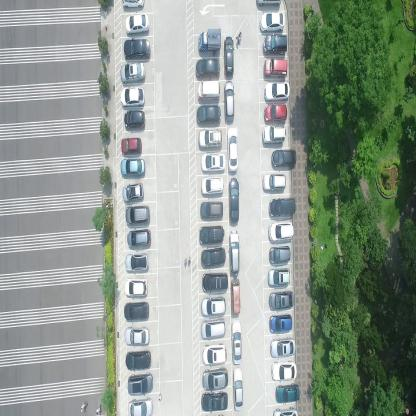car: (202, 366, 229, 392), (127, 371, 154, 396), (270, 336, 297, 360), (228, 228, 241, 277), (200, 295, 226, 319), (202, 343, 228, 367), (198, 27, 221, 54), (270, 360, 298, 382), (123, 37, 151, 59), (200, 392, 229, 413), (263, 33, 288, 57), (195, 58, 222, 80), (195, 104, 222, 126), (226, 125, 238, 174), (228, 176, 240, 224), (258, 10, 284, 32), (200, 246, 226, 268), (124, 324, 150, 346), (119, 85, 145, 107), (120, 62, 146, 84), (263, 81, 290, 102), (200, 320, 227, 341), (125, 349, 152, 370), (119, 157, 146, 178), (231, 319, 243, 366), (232, 368, 244, 414), (125, 13, 149, 36), (269, 289, 294, 311), (198, 128, 223, 150), (272, 148, 298, 169), (200, 152, 226, 173), (199, 176, 225, 197), (202, 271, 228, 292), (124, 301, 150, 322), (124, 252, 150, 273), (269, 198, 296, 218), (264, 58, 288, 80), (197, 80, 221, 102), (126, 204, 150, 226), (123, 277, 148, 298), (275, 384, 301, 404), (200, 225, 226, 245), (262, 124, 286, 145), (262, 172, 287, 192), (269, 221, 294, 241), (128, 396, 154, 415), (224, 79, 235, 123), (122, 181, 144, 203), (124, 108, 146, 130), (269, 314, 293, 334), (200, 201, 224, 221), (126, 230, 152, 248), (264, 103, 287, 123), (229, 278, 241, 316), (268, 245, 290, 265), (268, 267, 290, 287), (223, 34, 233, 76), (121, 136, 142, 154), (272, 406, 300, 416), (121, 0, 144, 12)
